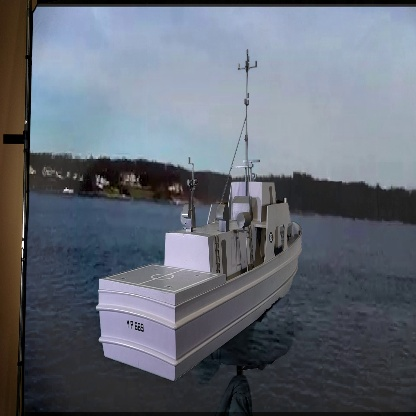YP689: (96, 49, 304, 384)
